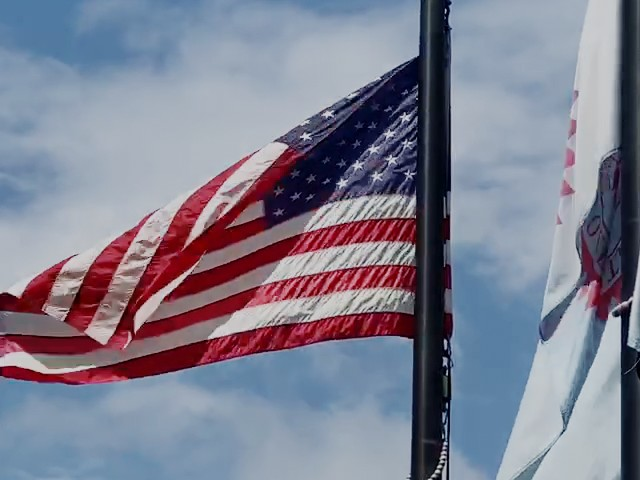America flag: (1, 55, 419, 386)
